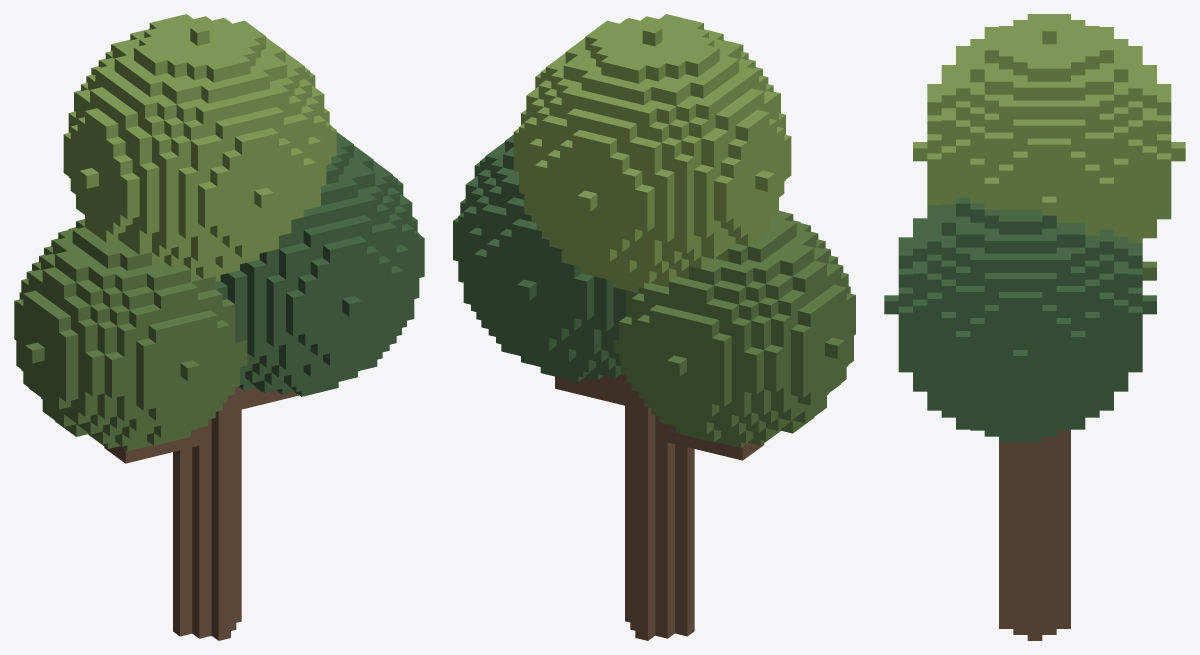
The model's file is hearthvale_tree_pilot_broad.obj.
The picture shows the model from 3 angles, left to right: view 1: azimuth 30°, elevation 25°; view 2: azimuth 150°, elevation 25°; view 3: azimuth 270°, elevation 25°; orthographic projection.
Visible parts, largest first — view 1: palette_4, palette_2, palette_3, palette_1; view 2: palette_4, palette_2, palette_3, palette_1; view 3: palette_3, palette_4, palette_1.
Boxes of the visible parts, x1,y1,x2,y2 form: palette_4: (63, 14, 336, 281); palette_2: (14, 219, 247, 451); palette_3: (215, 132, 424, 396); palette_1: (104, 386, 299, 640); palette_4: (513, 14, 791, 292); palette_2: (613, 210, 855, 447); palette_3: (453, 135, 626, 381); palette_1: (555, 374, 764, 640); palette_3: (884, 197, 1156, 442); palette_4: (913, 14, 1185, 243); palette_1: (999, 430, 1070, 640).
Size of the model in its own units: 3.75 by 5.75 by 2.62.
